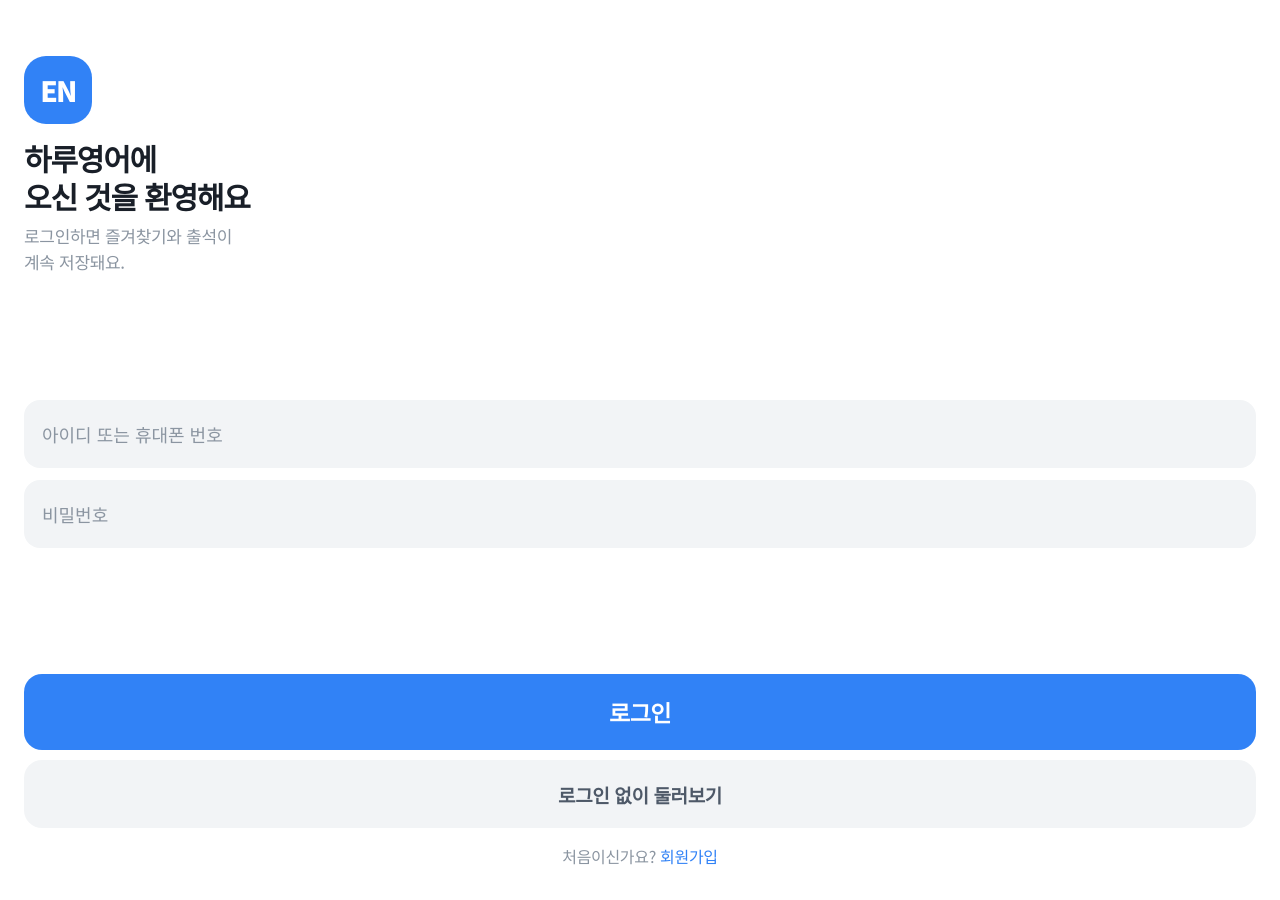
Test: 로그인 입력 검증 › 한글 아이디는 이유를 짚어 준다
The image size is (1280, 900).
Step 1. Type "홍길동" into the field labelled "아이디 또는 휴대폰 번호" → [640, 434], box [24, 400, 1256, 468]
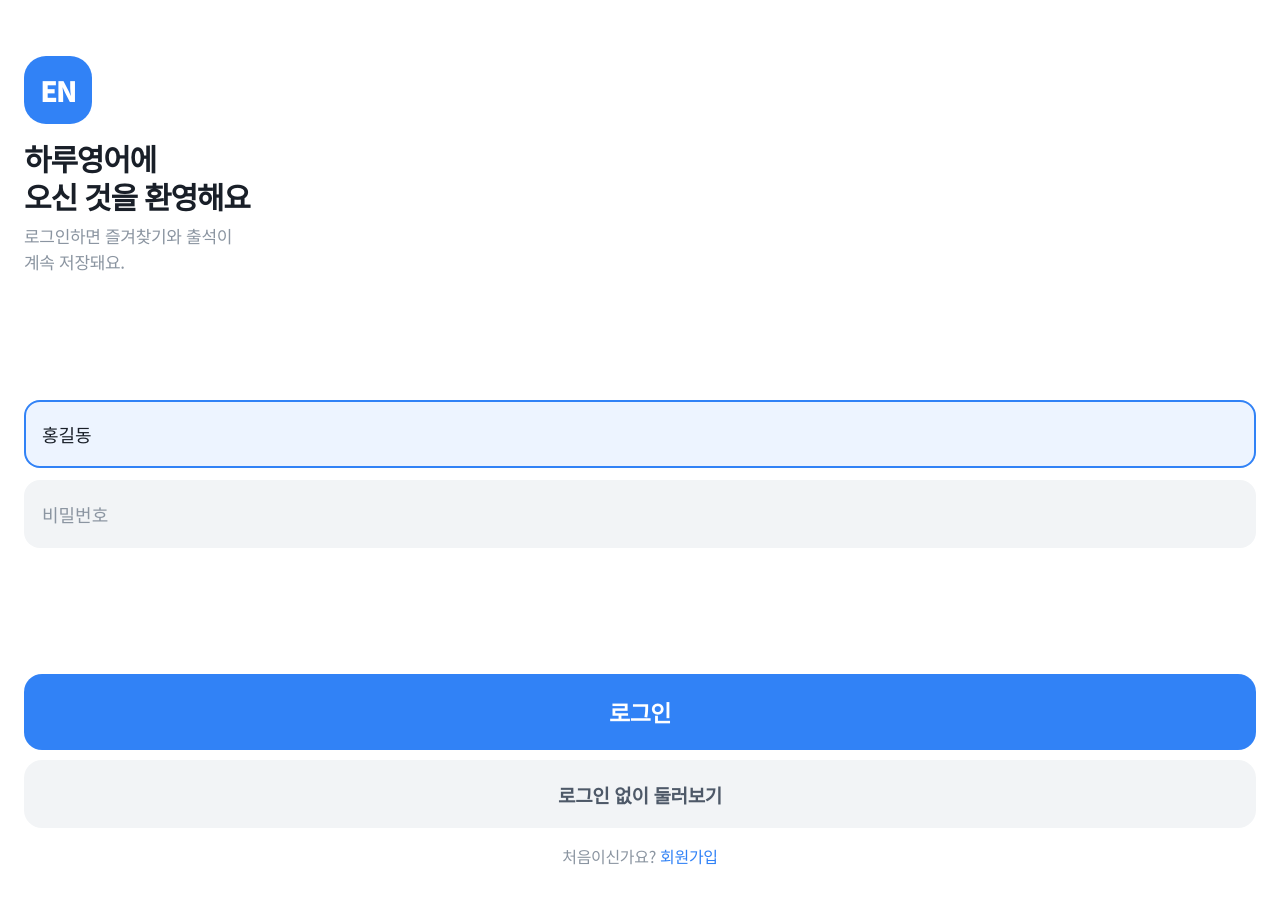
Step 2. Type "password123" into the password field labelled "비밀번호" → [640, 514], box [24, 480, 1256, 548]
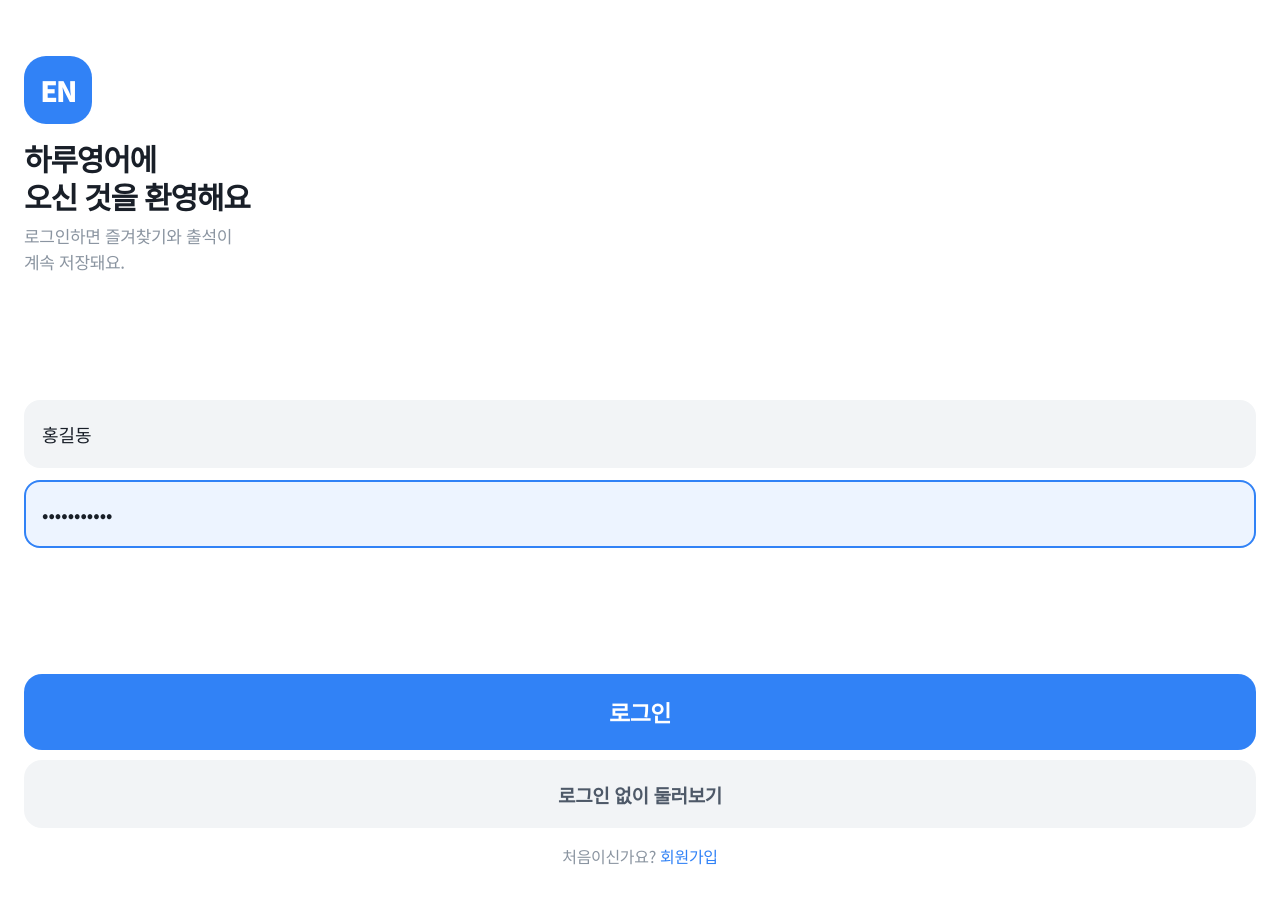
Step 3. Click the button "로그인" → [640, 712], box [24, 674, 1256, 750]
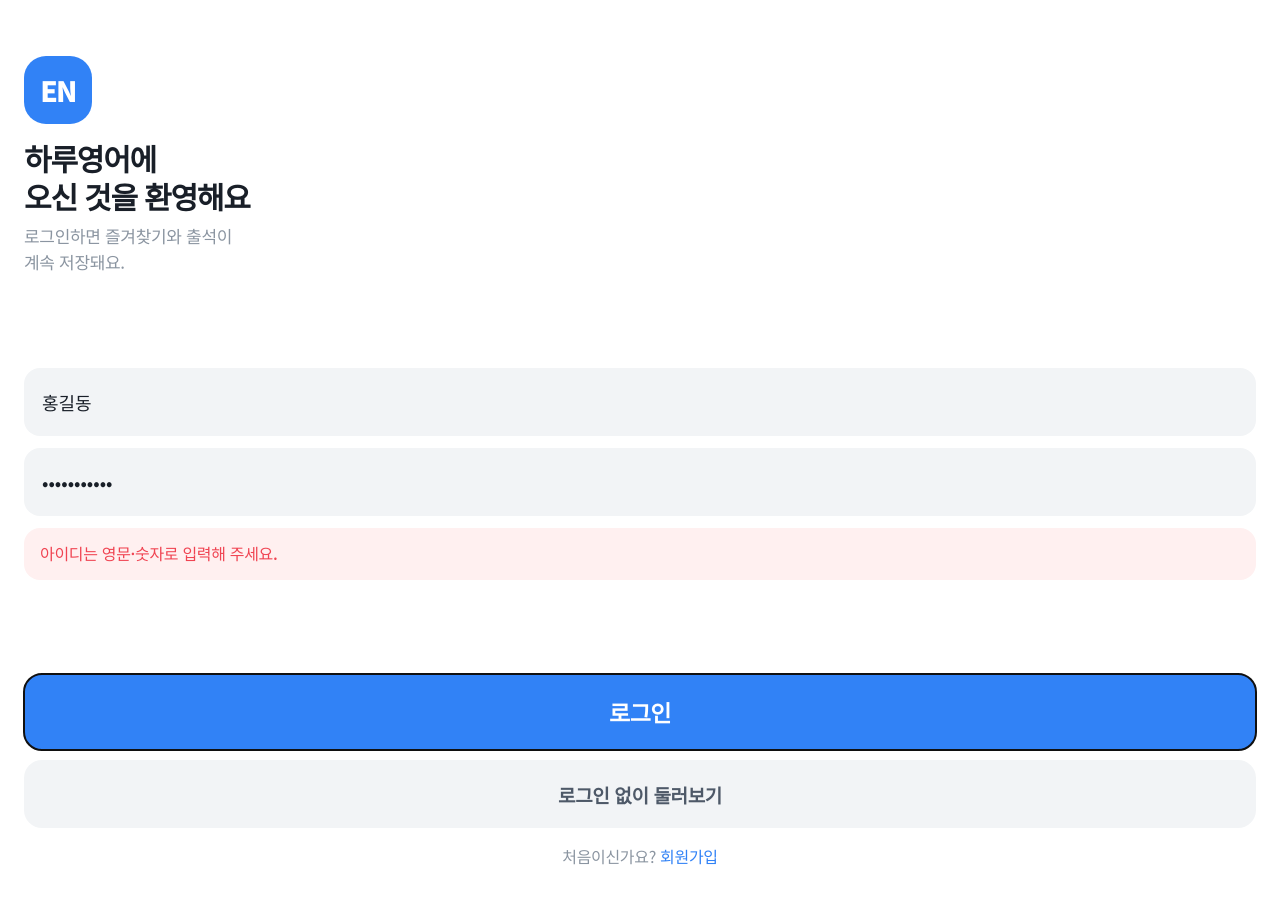
Now the message reads "아이디는 영문·숫자로 입력해 주세요.", box [40, 541, 277, 565]
